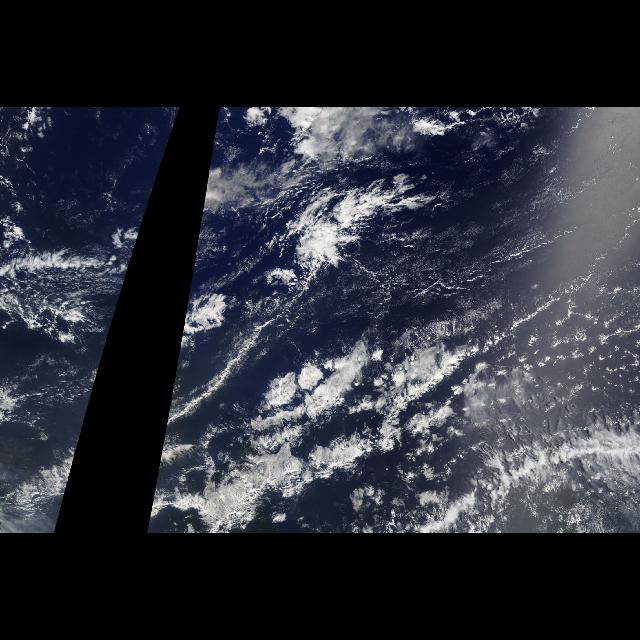Fish: (161, 304, 639, 532), (219, 163, 441, 299), (46, 354, 104, 448)
Sugar: (412, 120, 638, 320)
